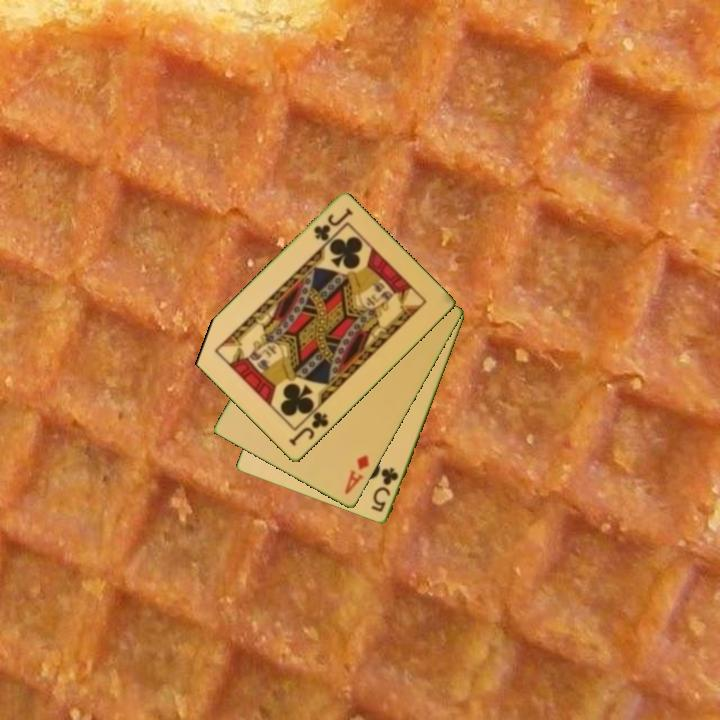5c: (368, 464, 402, 515)
Ad: (341, 452, 372, 498)
Jc: (285, 408, 332, 450), (310, 205, 355, 245)
